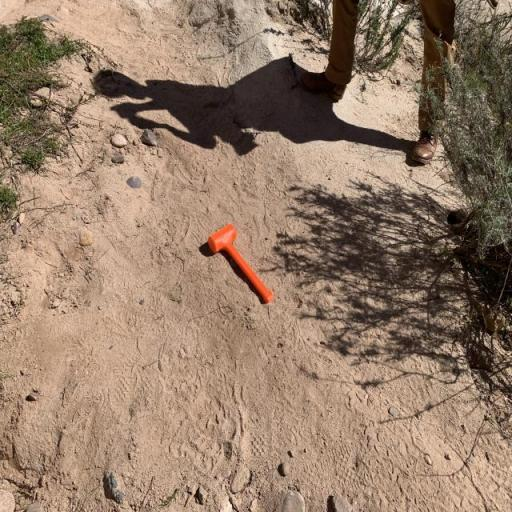mallet: (205, 220, 279, 310)
